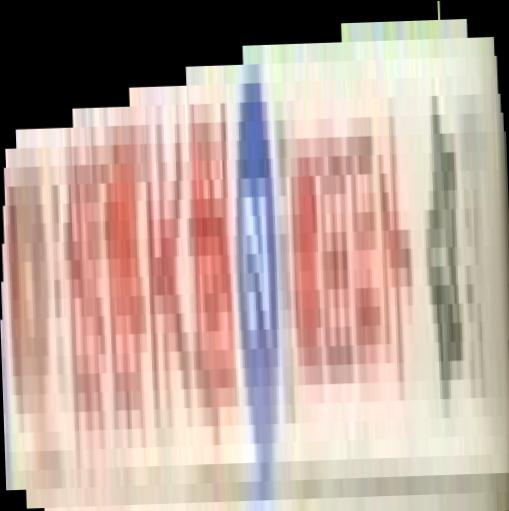flat: (1, 1, 509, 511)
